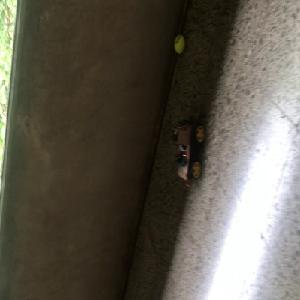Ball: (174, 34, 184, 53)
Robot: (170, 107, 206, 180)
